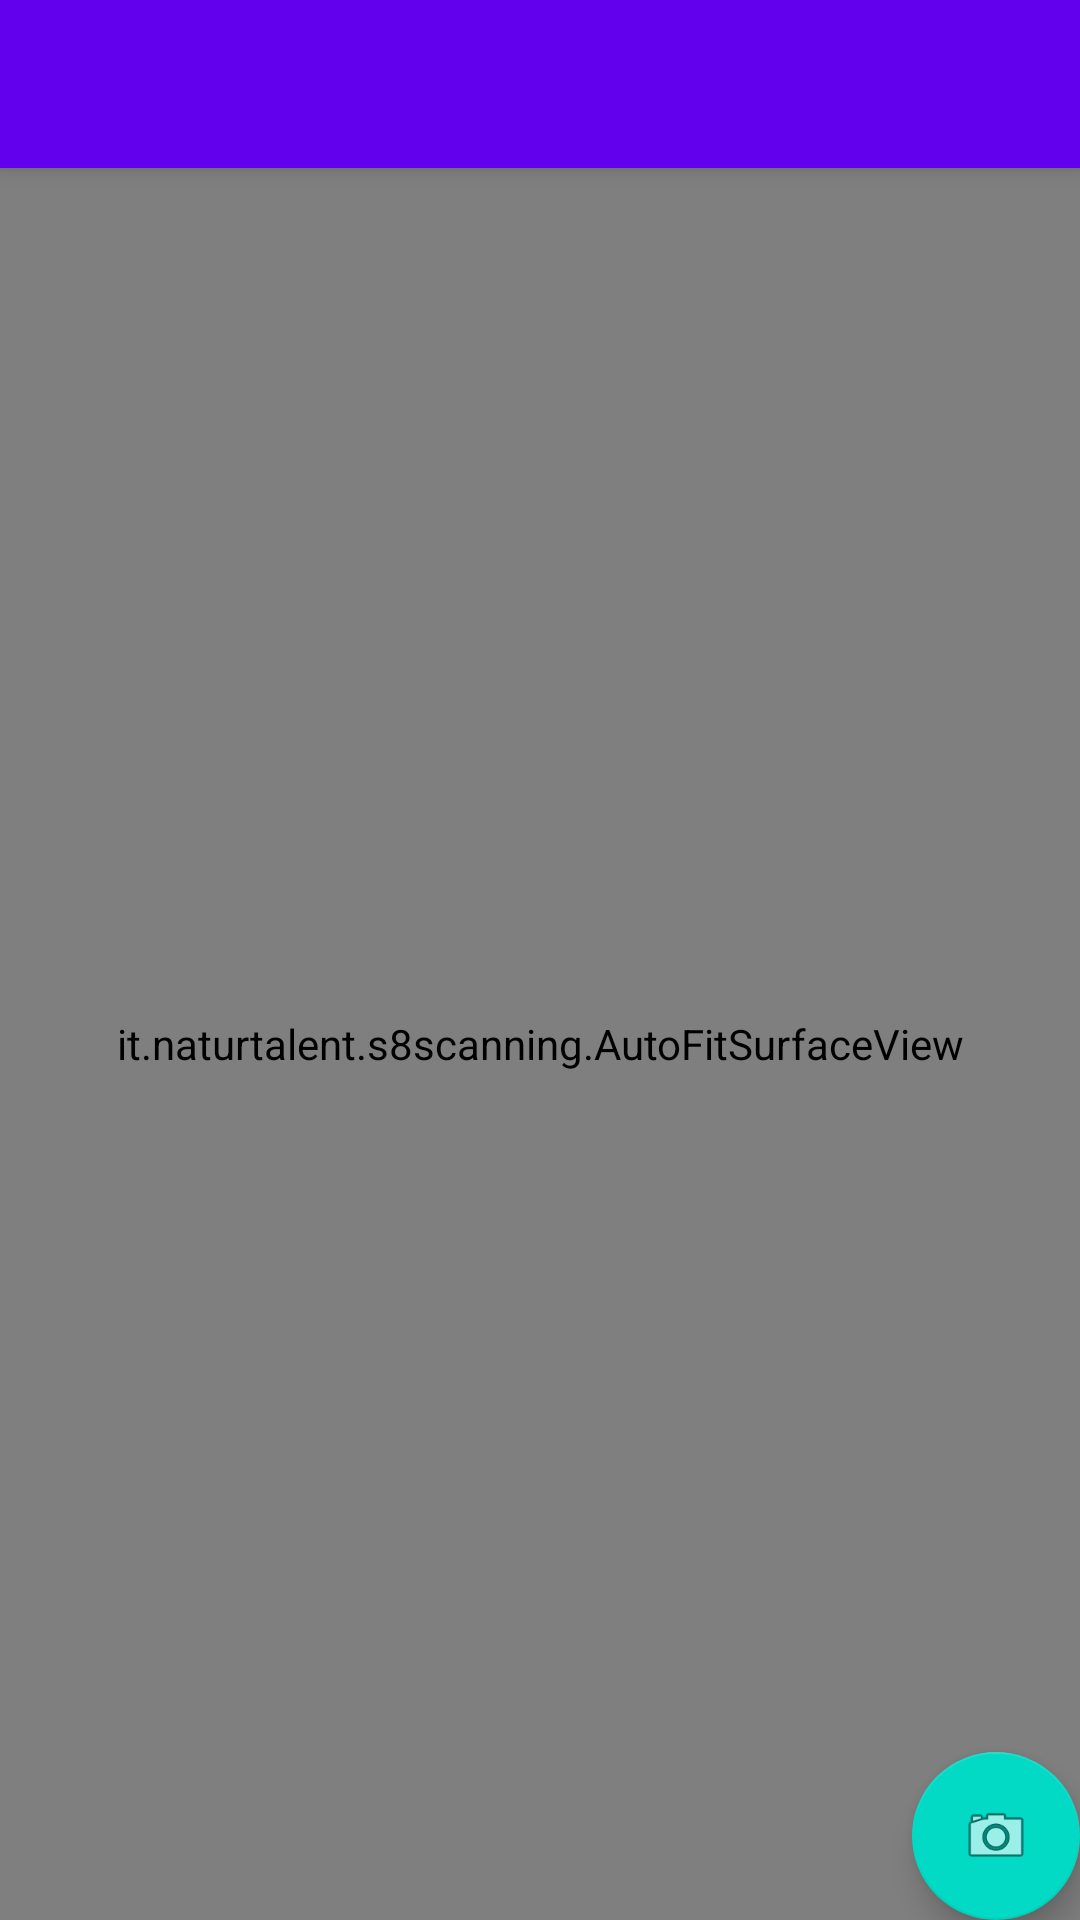

Point at icon controls on the screen. Image size 1080w x 1920h, points as (x,y).
camera: (996,1836)
